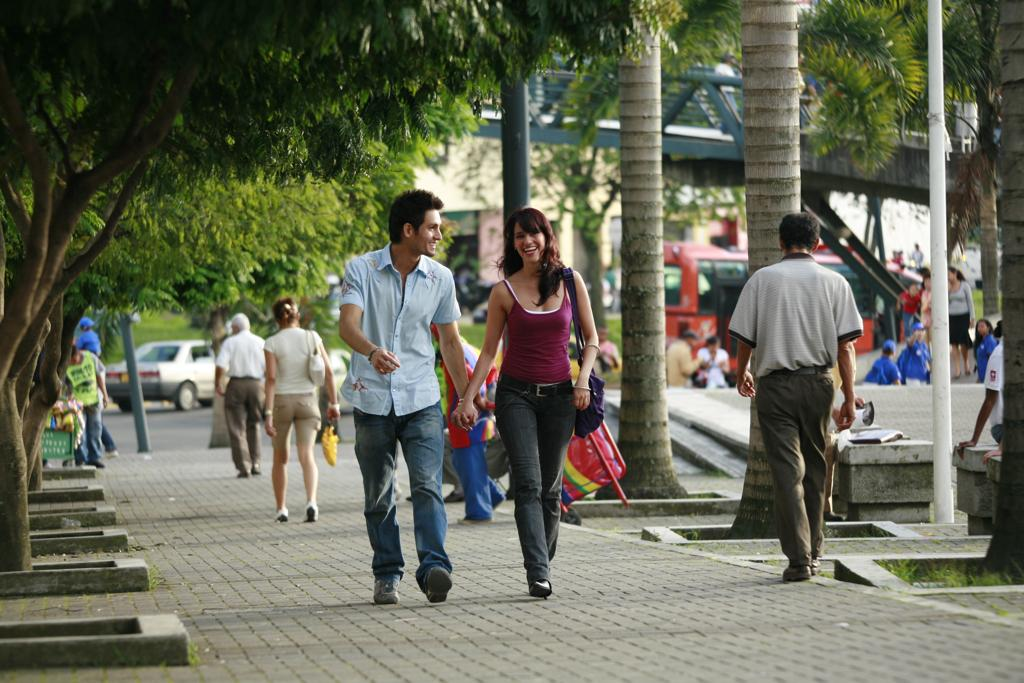face: (414, 209, 442, 257), (512, 222, 546, 261), (977, 321, 987, 335)
